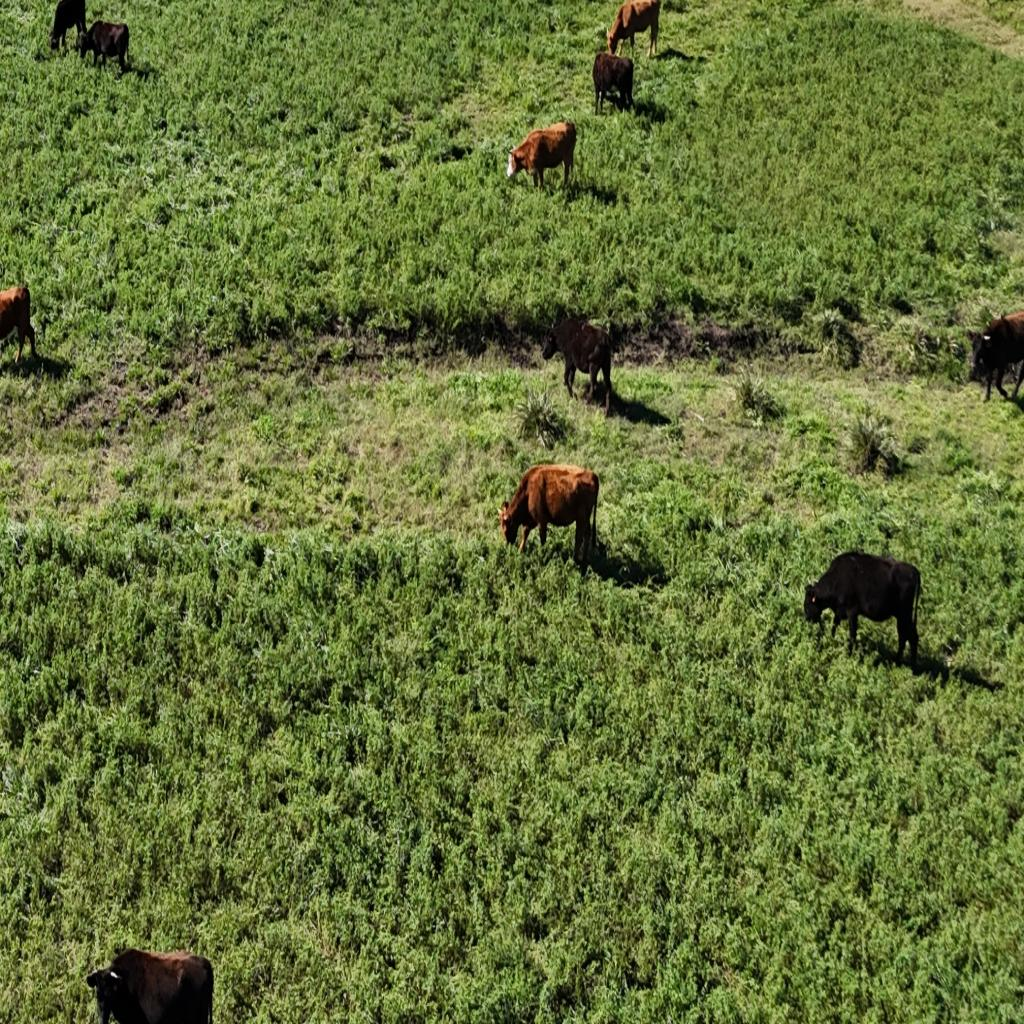cow: (802, 550, 921, 666), (499, 459, 603, 570), (86, 948, 213, 1022), (540, 314, 615, 420), (506, 118, 578, 193), (969, 308, 1024, 404), (0, 282, 38, 371), (606, 0, 661, 61), (861, 552, 918, 602), (79, 20, 130, 75), (591, 50, 634, 115), (48, 0, 85, 57), (606, 16, 628, 56), (557, 120, 577, 154)
